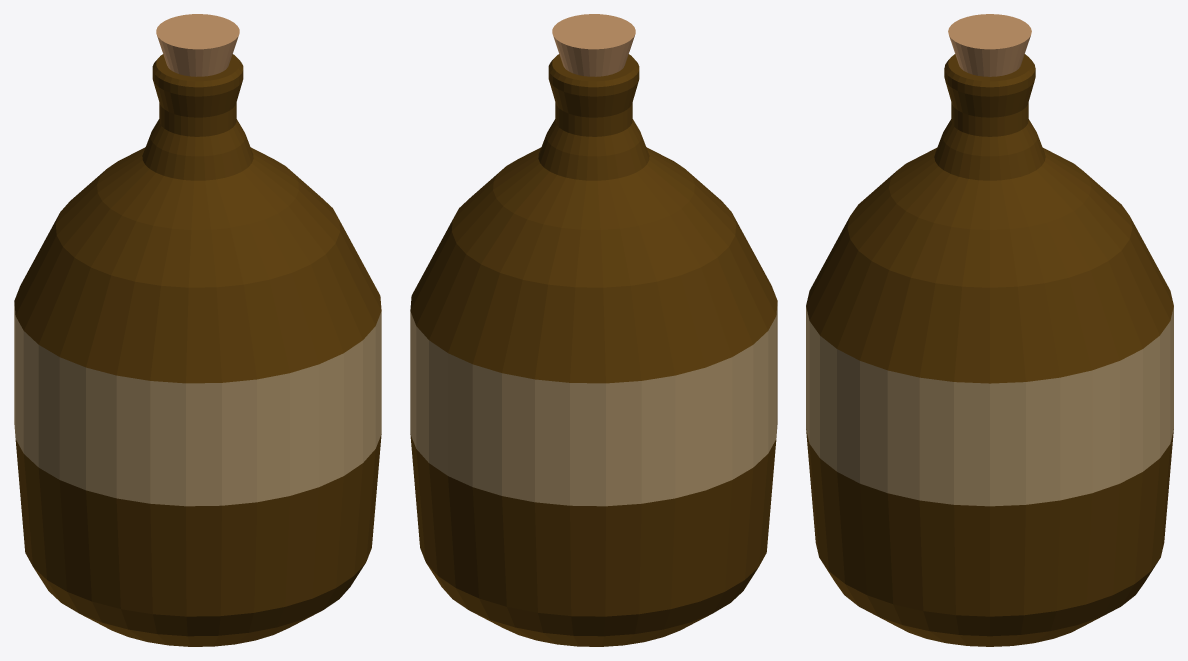
The model's file is WineBottle3_Brown.fbx.
3 renders of one model, left to right at view 1: azimuth 30°, elevation 25°; view 2: azimuth 150°, elevation 25°; view 3: azimuth 270°, elevation 25°, orthographic.
Parts seen in each view (by area): view 1: WineBottle V3 Brown; view 2: WineBottle V3 Brown; view 3: WineBottle V3 Brown.
Part boxes in pixels (left/top/right/bottom): WineBottle V3 Brown: left=14, top=14, right=381, bottom=646; WineBottle V3 Brown: left=410, top=14, right=777, bottom=646; WineBottle V3 Brown: left=806, top=14, right=1173, bottom=646.
Bounding box in the file's own units: 10 × 17 × 10.
